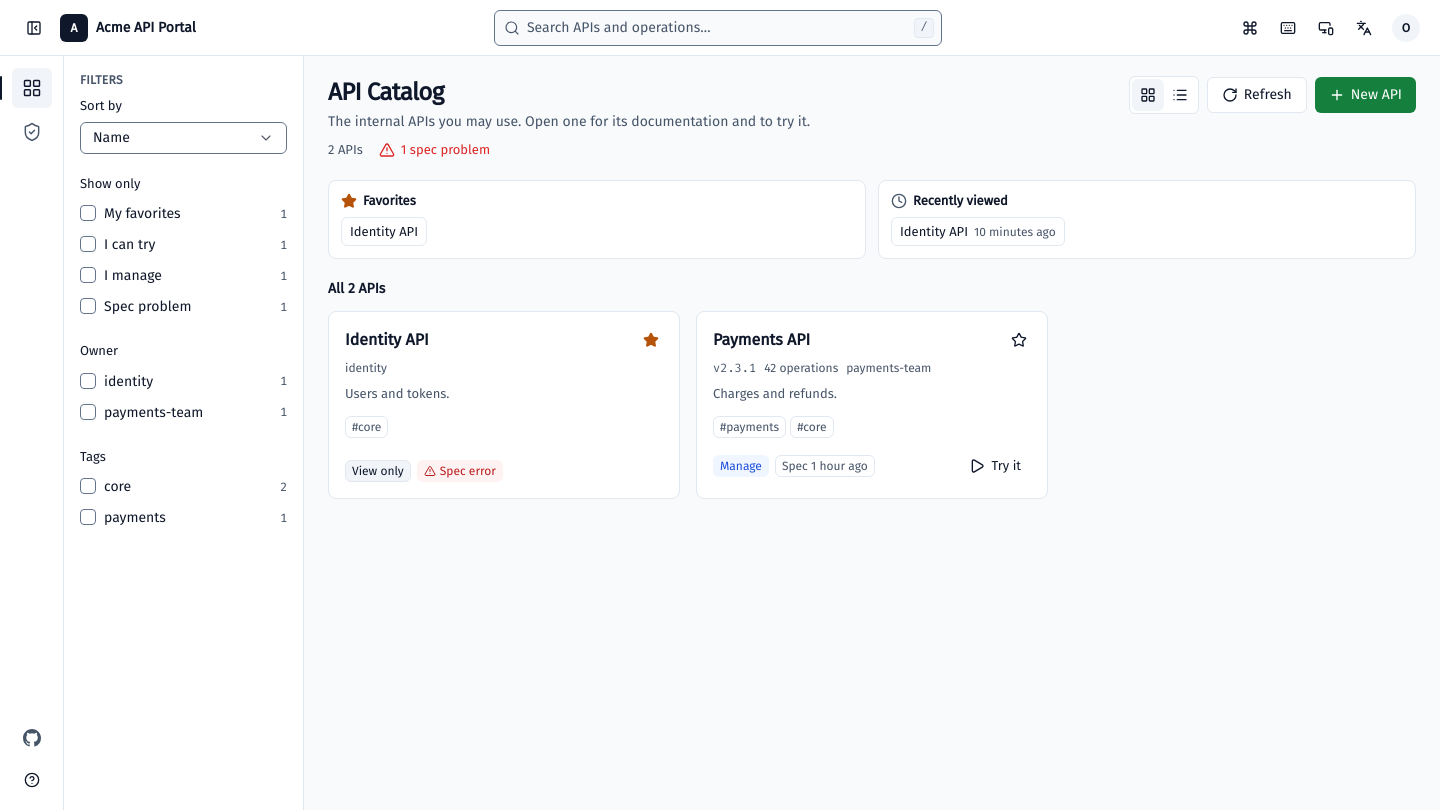
Test case: shell › switches language and theme from the top bar, and remembers them
The width and height of the screenshot is (1440, 810).
Check: the heading "API Catalog" is shown, box x1=328 y1=78 x2=444 y2=106
Click the button named "Theme:": (1326, 28) x1=1308 y1=10 x2=1344 y2=46
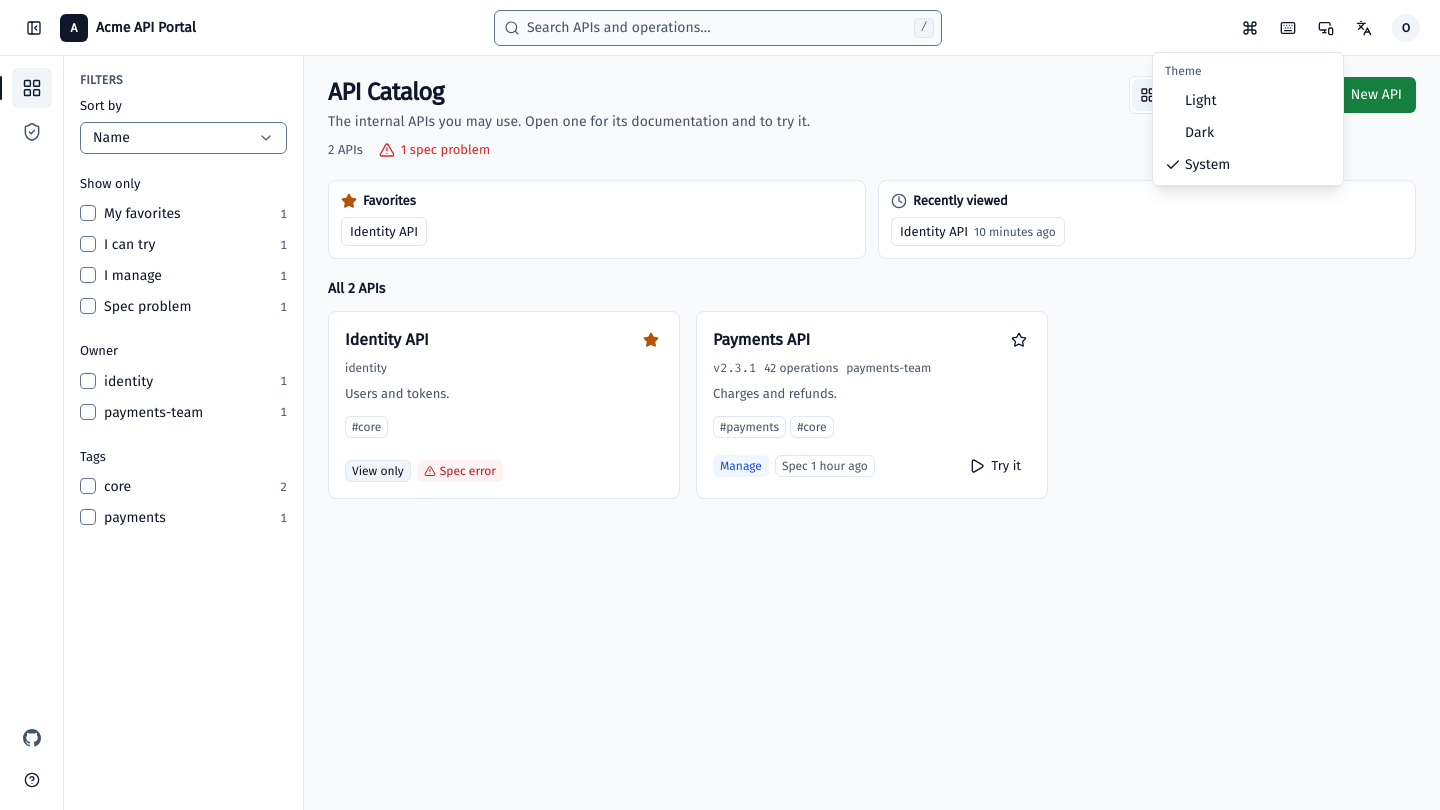
Click the menu item "Dark": (1200, 132) x1=1185 y1=124 x2=1214 y2=141
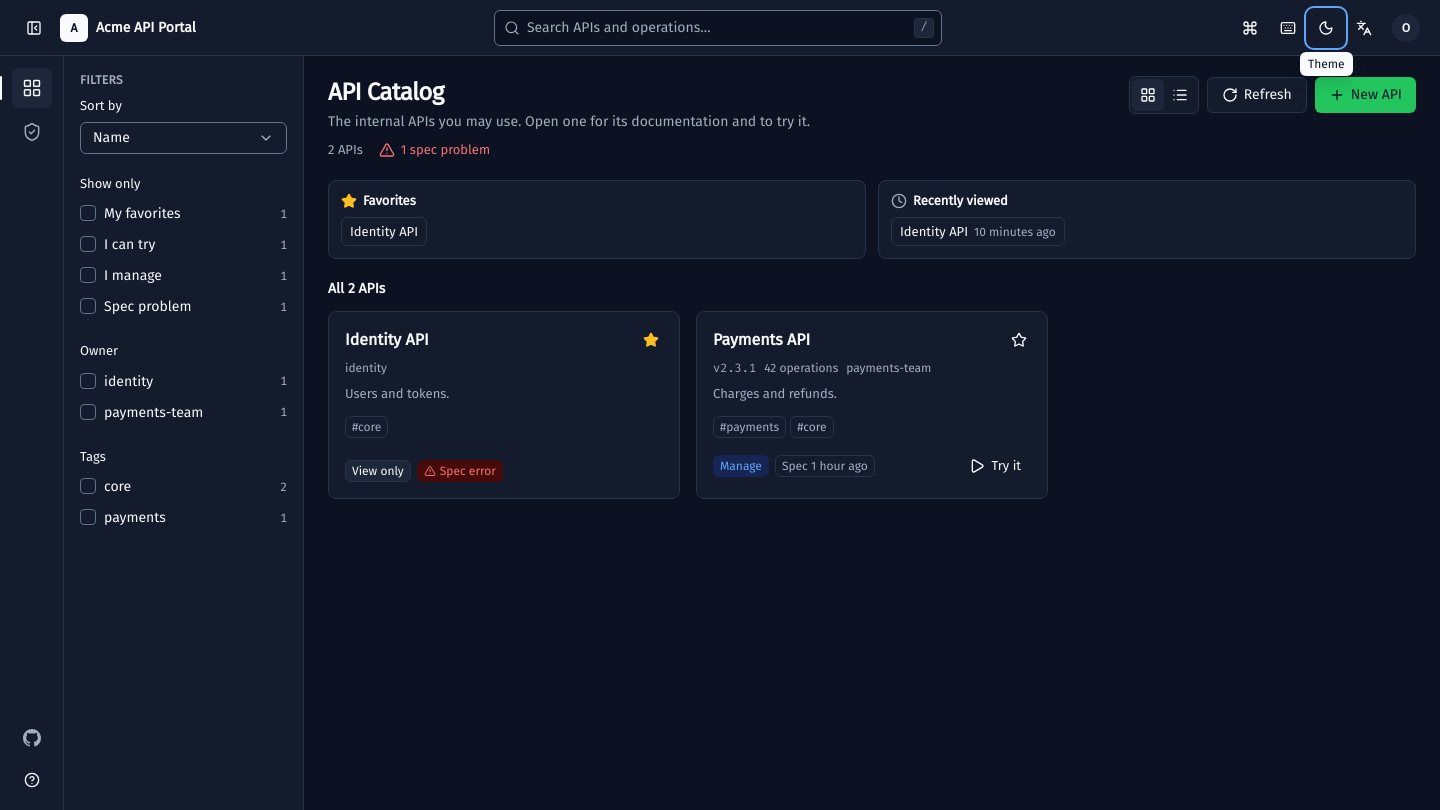
Click the button named "Language:": (1364, 28) x1=1346 y1=10 x2=1382 y2=46
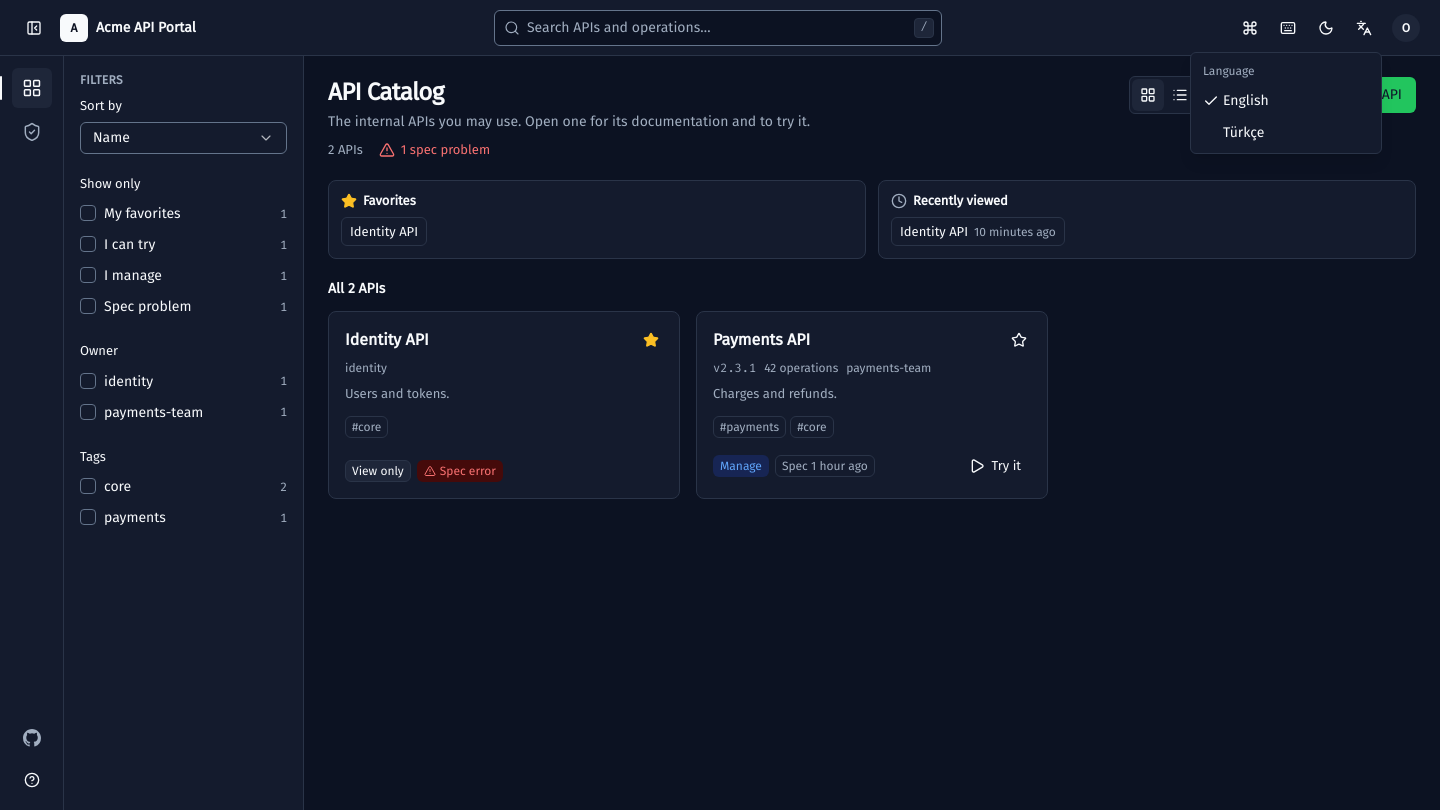
Click the menu item "Türkçe": (1244, 132) x1=1223 y1=124 x2=1264 y2=141
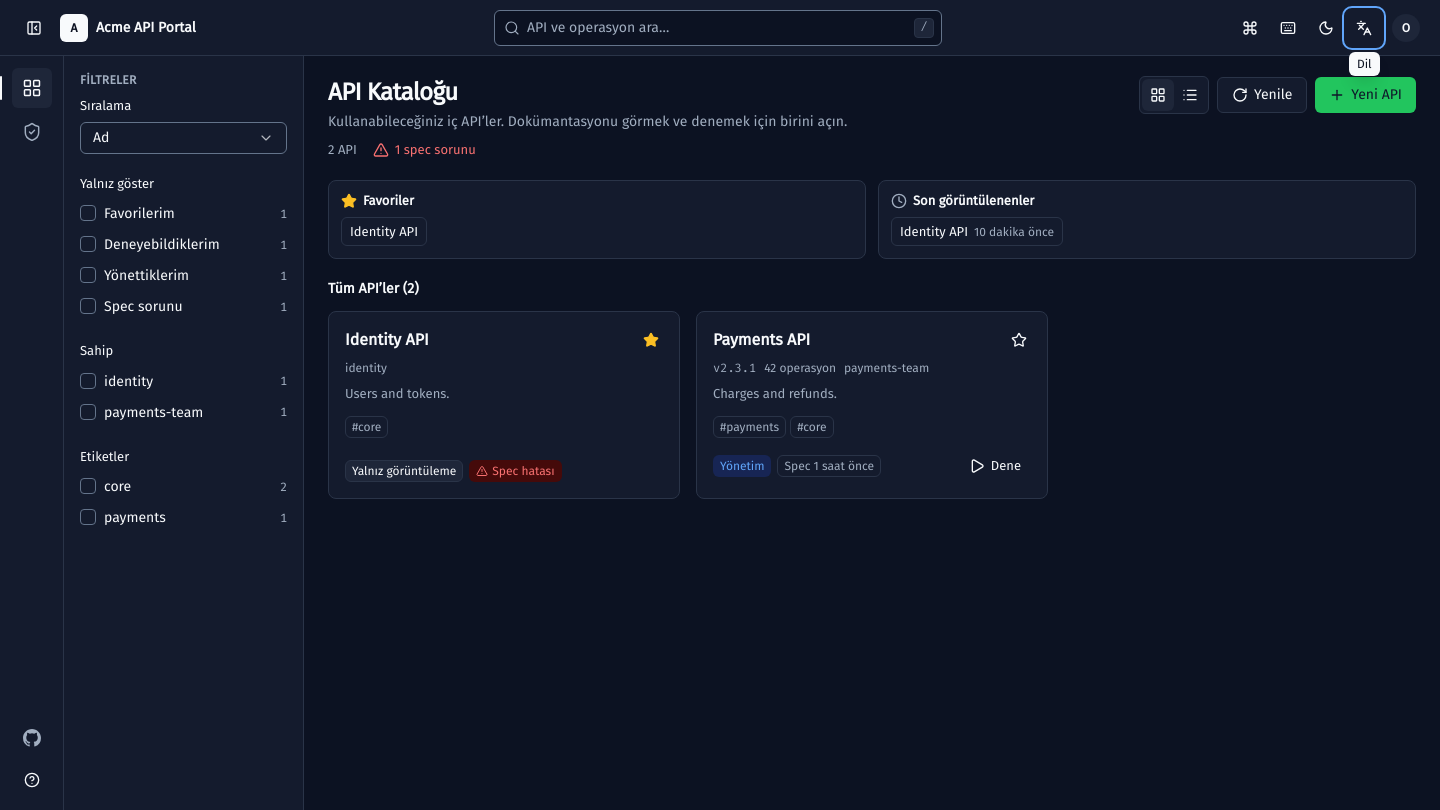
Check: the heading "API Kataloğu" is shown, box x1=328 y1=78 x2=458 y2=106
